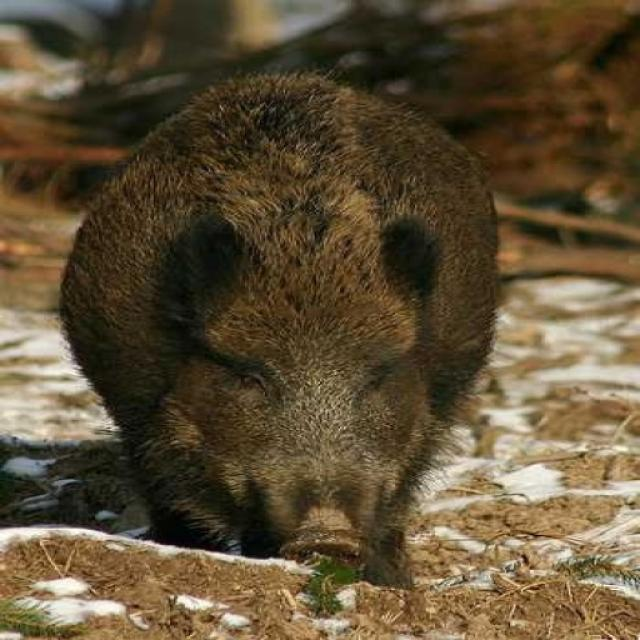pig: (35, 30, 554, 627)
